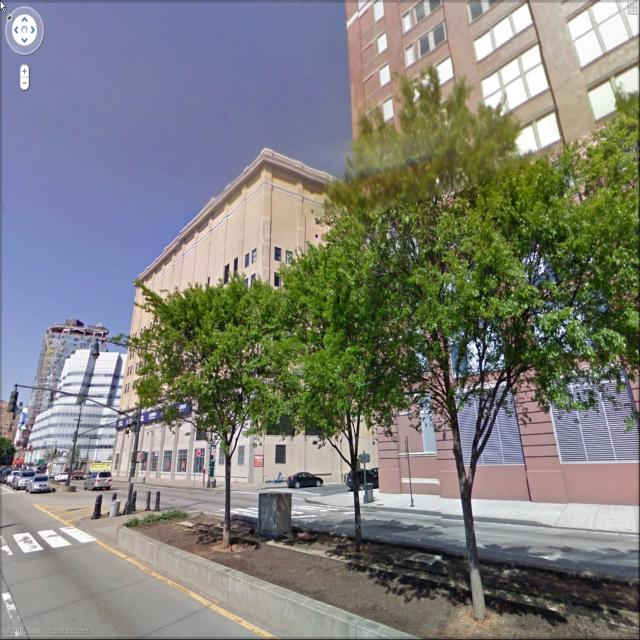b_1: (24, 323, 130, 483), (52, 348, 135, 412)
b_2: (333, 1, 640, 516), (137, 153, 377, 484)
